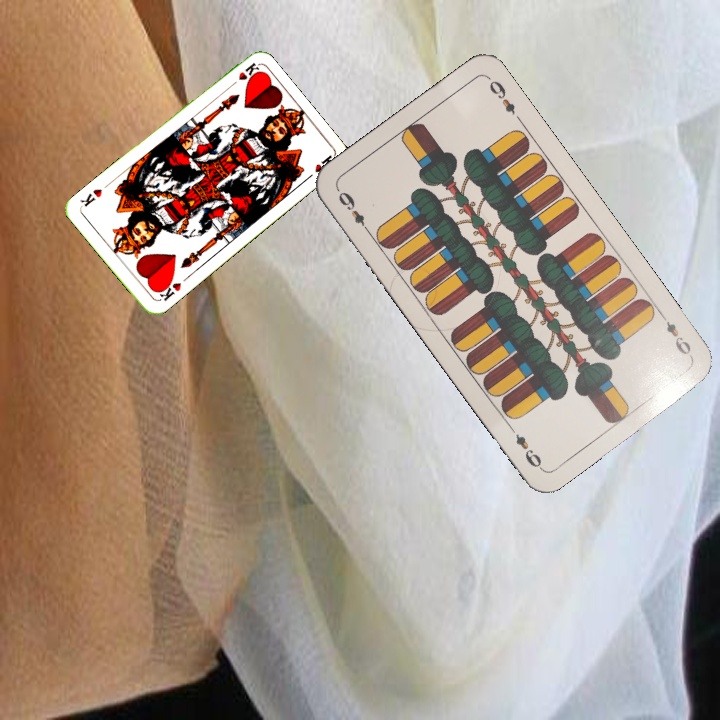E9: (333, 185, 373, 236), (656, 309, 694, 358)
HK: (225, 59, 261, 91), (153, 275, 184, 304)
